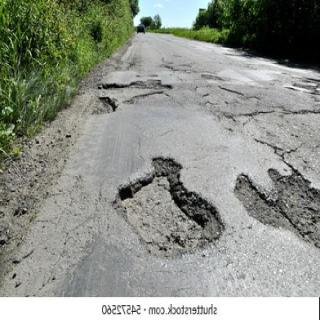pothole: (112, 157, 225, 260), (235, 169, 320, 251), (97, 78, 174, 94), (95, 95, 117, 116)
